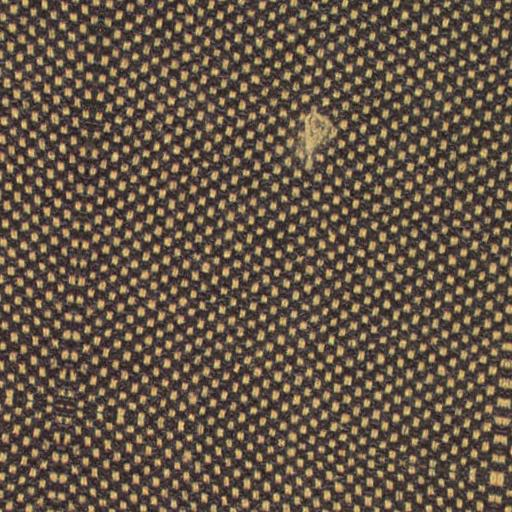knot: (274, 94, 350, 179)
